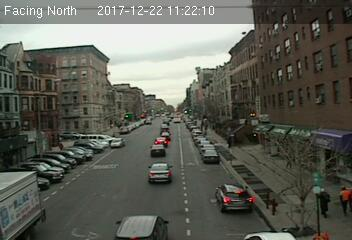car: (215, 181, 255, 212), (147, 162, 171, 183), (201, 150, 220, 163), (150, 143, 165, 155), (110, 138, 125, 148), (154, 136, 168, 146)
pedestrian: (319, 185, 332, 220)
